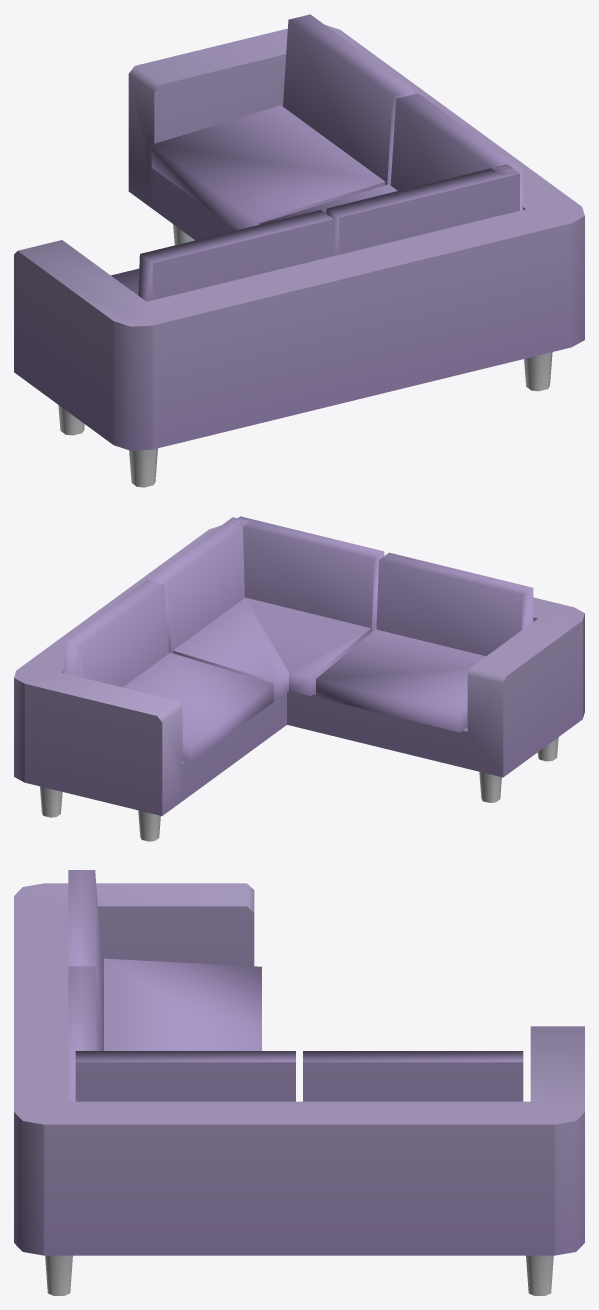
File: stockholm-sofa-corner.glb
The picture shows the model from 3 angles, top to bottom: view 1: azimuth 30°, elevation 25°; view 2: azimuth 150°, elevation 25°; view 3: azimuth 270°, elevation 25°; orthographic projection. The views are drawn at different scales.
Visible parts, largest first — view 1: stockholm-sofa-corner; view 2: stockholm-sofa-corner; view 3: stockholm-sofa-corner.
Boxes of the visible parts, x1,y1,x2,y2 form: stockholm-sofa-corner: (14,14,584,487); stockholm-sofa-corner: (14,516,584,841); stockholm-sofa-corner: (14,870,584,1295).
Size of the model in its own units: 1.6 by 0.6929 by 1.6.
